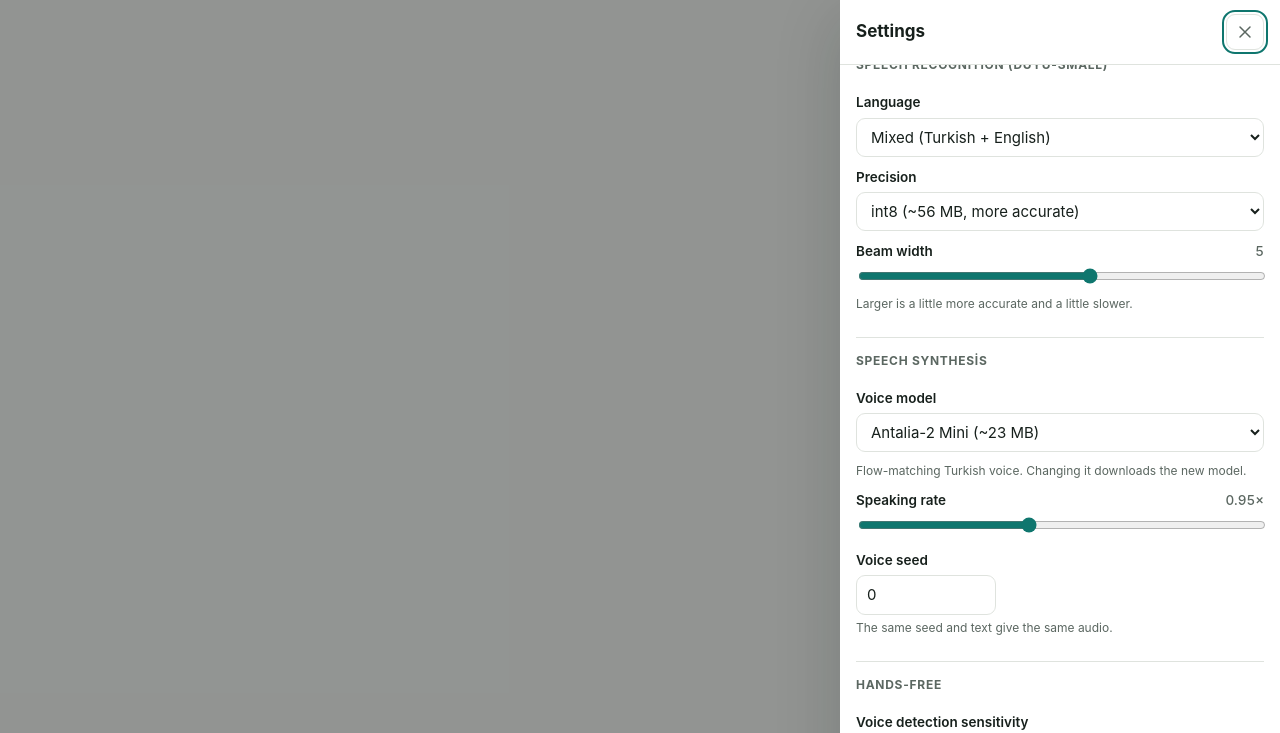
Test: <SettingsDrawer> voice model › switches to EMA Lightning, and says when this server has no pack for a model
The width and height of the screenshot is (1280, 733).
(page scrolled)
Select "EMA Lightning (~34 MB) · not on this server" in the dropdown labelled "Voice model": (1060, 432) [856,413,1264,452]
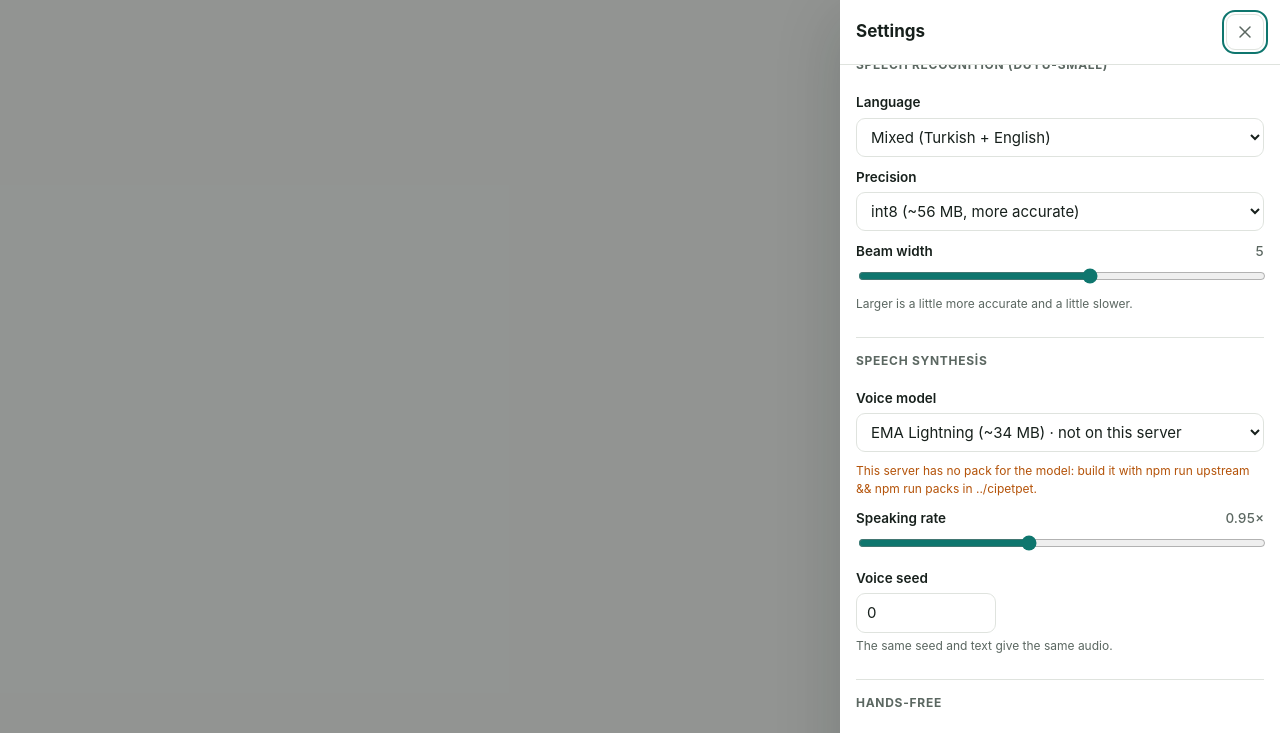
expect the text "This server has no pack for the model" is shown: met, box [856,463,1250,496]
